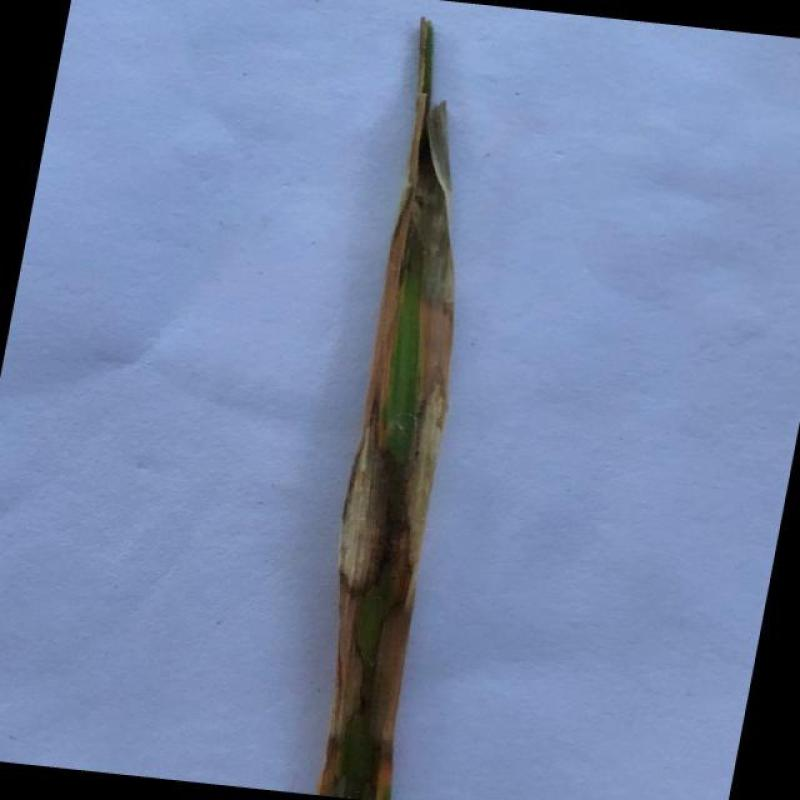Bacterial_Leaf_Blight: (314, 20, 455, 800)
